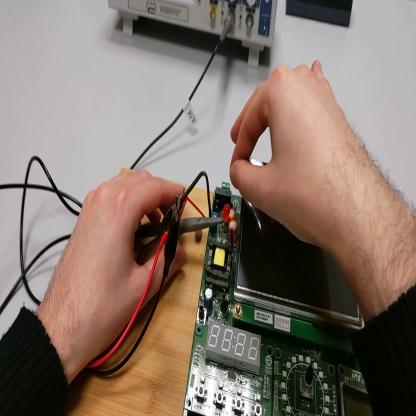hand: (51, 171, 190, 366), (229, 56, 361, 252)
low voltage board: (180, 158, 372, 416)
oscilloscope: (108, 1, 279, 67)
oscilloscope probe tip: (136, 212, 224, 248)
working area: (67, 186, 213, 414)
